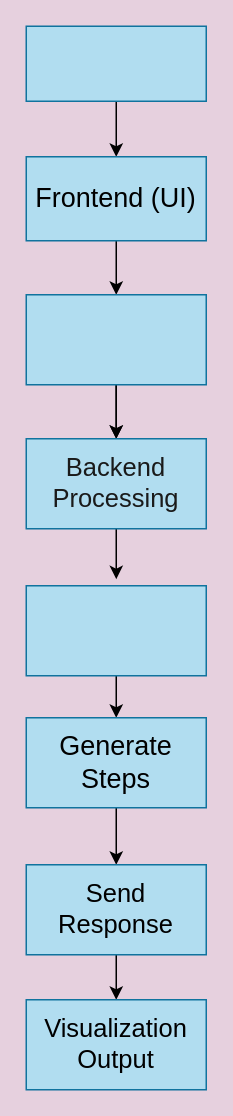
Image size: 233x1116. Some labels were removed from this diagram. Here are the shapes that lost their labels. From the top down, the centre of each, then its label:
(115,63): User Input
(115,339): API Request
(115,630): Sorting Algo. Excecution
